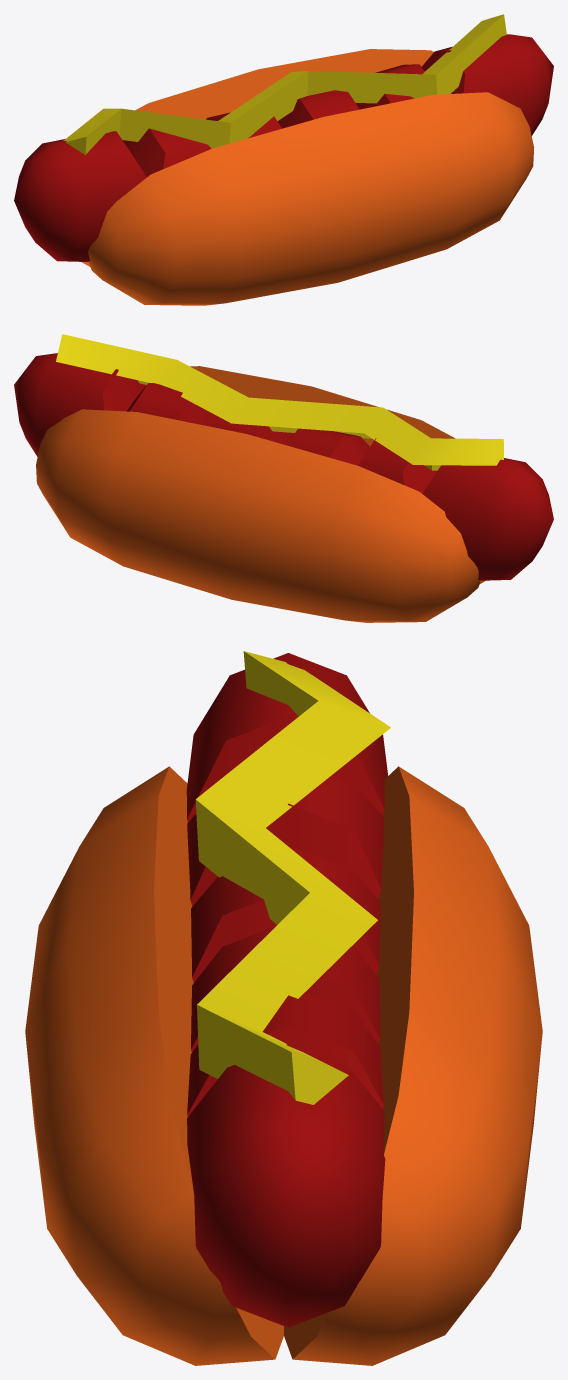
Rendered from HotDog.FBX.
The picture shows the model from 3 angles, top to bottom: view 1: azimuth 30°, elevation 25°; view 2: azimuth 150°, elevation 25°; view 3: azimuth 270°, elevation 25°; orthographic projection. The views are drawn at different scales.
Visible parts, largest first — view 1: HotDog, XucXich001, Line001; view 2: HotDog, XucXich001, Line001; view 3: HotDog, XucXich001, Line001.
Part boxes in pixels (<box>): HotDog: <box>82,49,534,305</box>; XucXich001: <box>14,34,553,261</box>; Line001: <box>63,14,506,154</box>; HotDog: <box>36,366,485,622</box>; XucXich001: <box>14,353,553,580</box>; Line001: <box>55,334,503,470</box>; HotDog: <box>25,766,542,1365</box>; XucXich001: <box>186,653,388,1327</box>; Line001: <box>195,651,390,1104</box>.
Size of the model in its own units: 1.09 by 0.3866 by 0.454.
